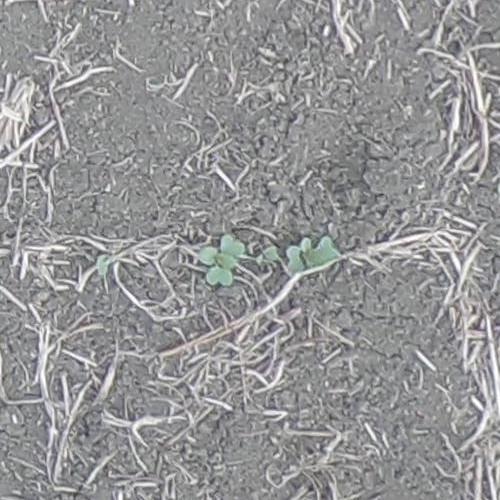isolated: (201, 233, 242, 287), (287, 235, 336, 273), (94, 248, 117, 279), (251, 238, 279, 263)
